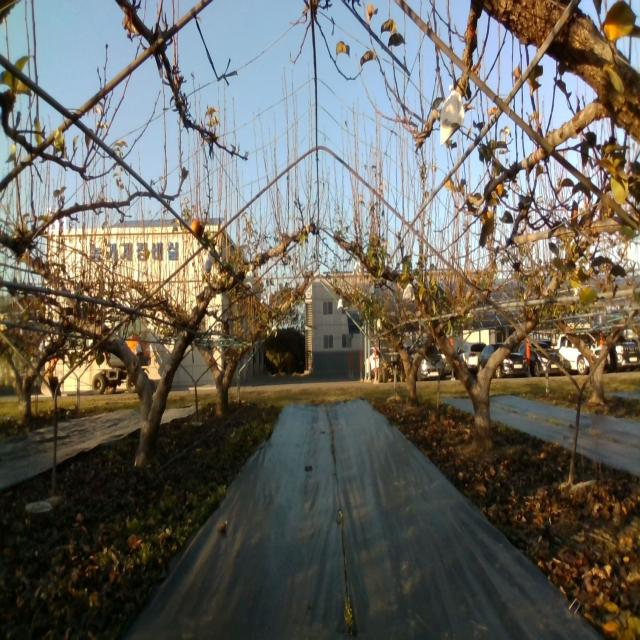pearbags: (440, 84, 466, 148), (203, 247, 213, 274), (402, 283, 416, 301), (244, 270, 254, 288)
